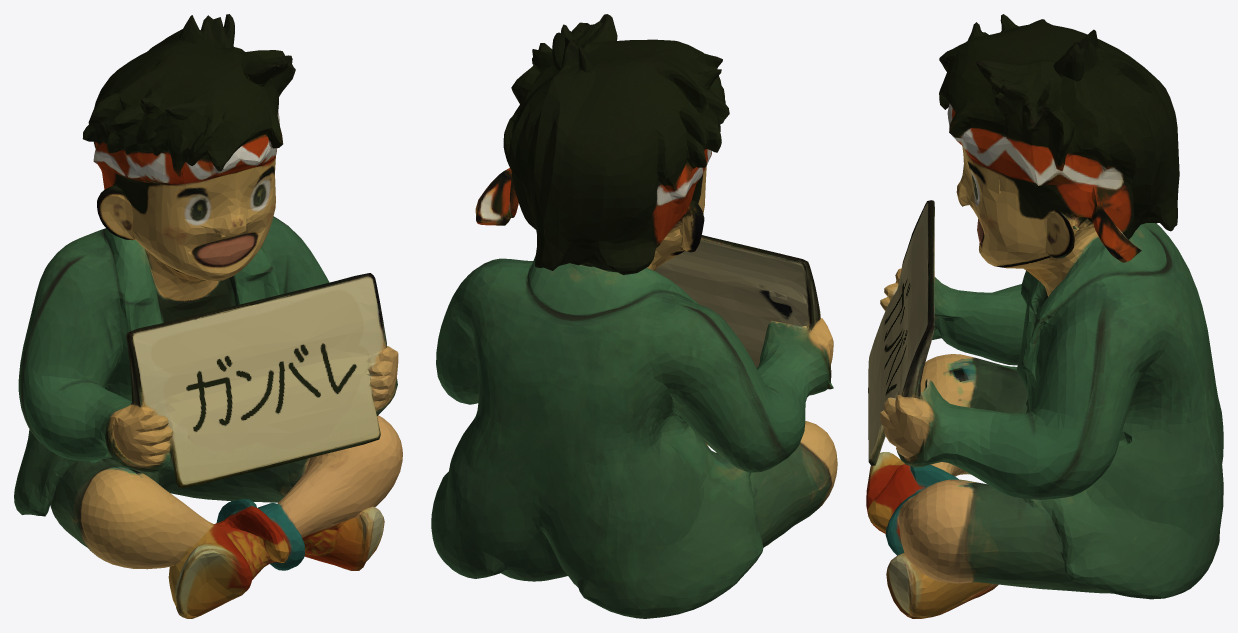
The model's file is viewer_6.glb.
3 renders of one model, left to right at view 1: azimuth 30°, elevation 25°; view 2: azimuth 150°, elevation 25°; view 3: azimuth 270°, elevation 25°, orthographic. The views are drawn at different scales.
Visible parts, largest first — view 1: world; view 2: world; view 3: world.
Boxes of the visible parts, bbox=[...] form: world: bbox=[14, 14, 402, 618]; world: bbox=[431, 14, 837, 618]; world: bbox=[866, 14, 1223, 618].
Size of the model in its own units: 0.6368 by 0.9645 by 0.5631.
Materials: 1 (1 with a texture image).
